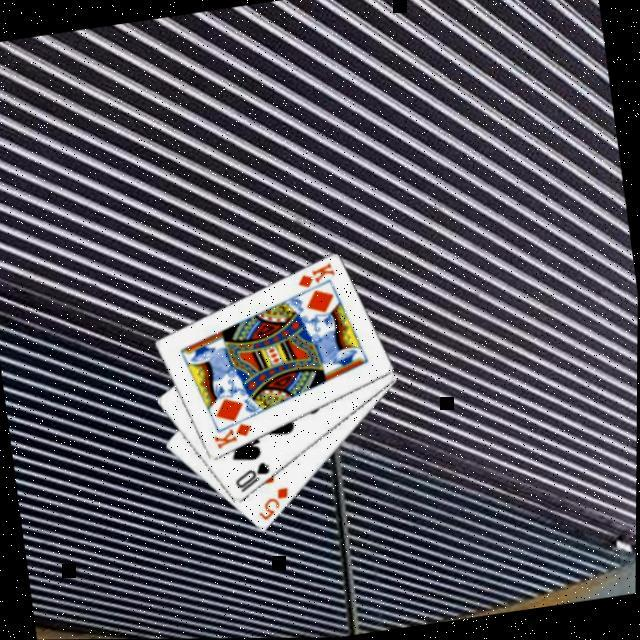10S: (232, 459, 278, 499)
5D: (255, 486, 298, 526)
KD: (212, 420, 260, 454), (296, 260, 342, 294)
